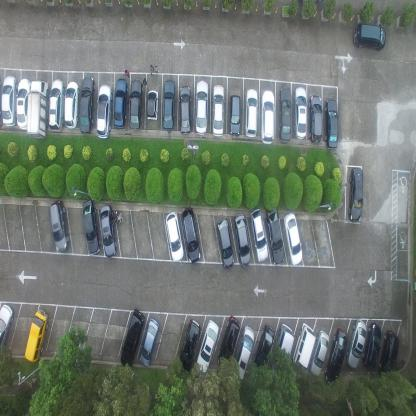car: (120, 309, 145, 368), (290, 321, 315, 377), (26, 80, 49, 140), (324, 328, 348, 385), (24, 308, 49, 362), (177, 318, 201, 374), (194, 318, 218, 373), (217, 316, 240, 373), (180, 206, 202, 263), (232, 325, 254, 381), (272, 323, 294, 377), (252, 324, 275, 374), (266, 205, 285, 265), (138, 317, 160, 368), (249, 207, 269, 263), (80, 198, 99, 256), (346, 318, 367, 370), (233, 212, 252, 268), (78, 75, 96, 134), (282, 212, 302, 265), (49, 200, 69, 253), (378, 329, 400, 377), (309, 329, 330, 378), (352, 22, 386, 52), (0, 73, 18, 128), (165, 211, 184, 262), (361, 322, 381, 370), (216, 217, 234, 268), (96, 83, 112, 139), (99, 204, 115, 258), (48, 78, 64, 132), (348, 166, 363, 223), (0, 303, 15, 359), (292, 85, 307, 140), (261, 88, 275, 146), (194, 80, 208, 137), (16, 78, 31, 130), (278, 86, 291, 145), (64, 79, 79, 130), (324, 98, 338, 150), (244, 87, 258, 139), (112, 76, 126, 127), (178, 85, 192, 136), (129, 77, 142, 130), (308, 94, 322, 143), (212, 84, 224, 138), (163, 79, 175, 131), (228, 94, 241, 138), (146, 88, 158, 122)
